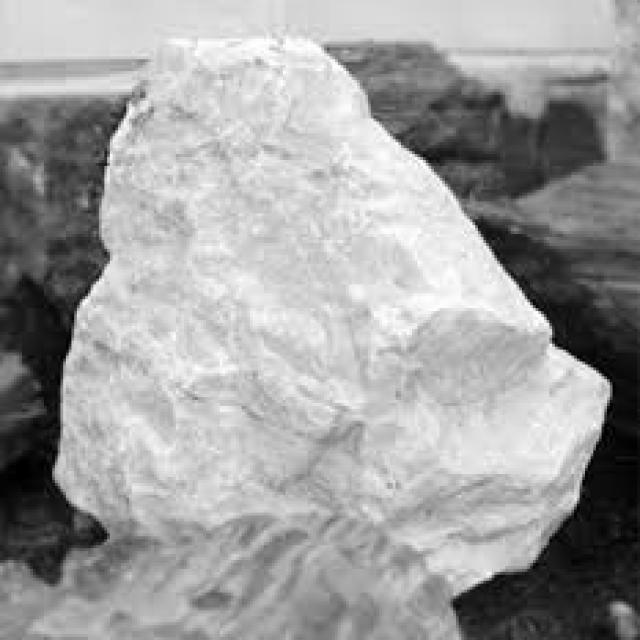Stone: (1, 37, 610, 640)
